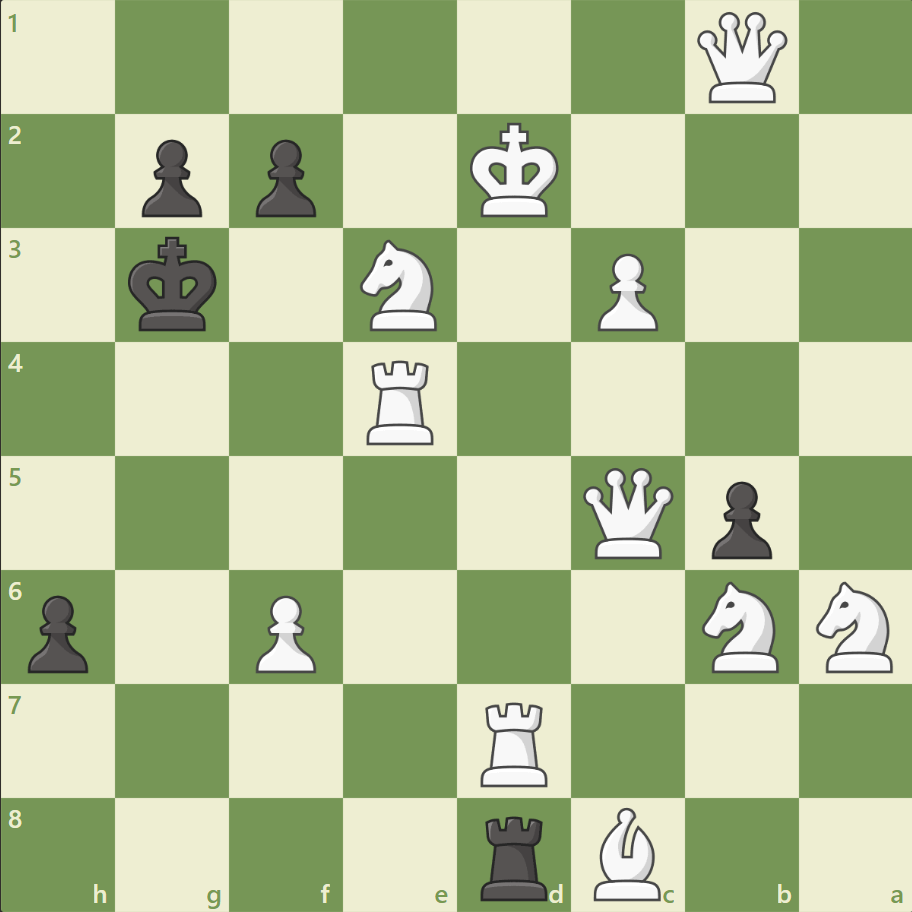B: (585, 801, 669, 904)
K: (465, 117, 565, 225)
N: (351, 234, 449, 337), (806, 575, 903, 677), (692, 575, 789, 677)
P: (247, 586, 322, 677), (588, 246, 662, 337)
Q: (578, 463, 677, 562), (691, 9, 790, 108)
R: (473, 693, 556, 790), (360, 352, 442, 449)
k: (124, 231, 224, 339)
p: (20, 586, 95, 677), (701, 473, 776, 564), (247, 132, 322, 223), (133, 132, 208, 223)
r: (473, 806, 556, 904)
